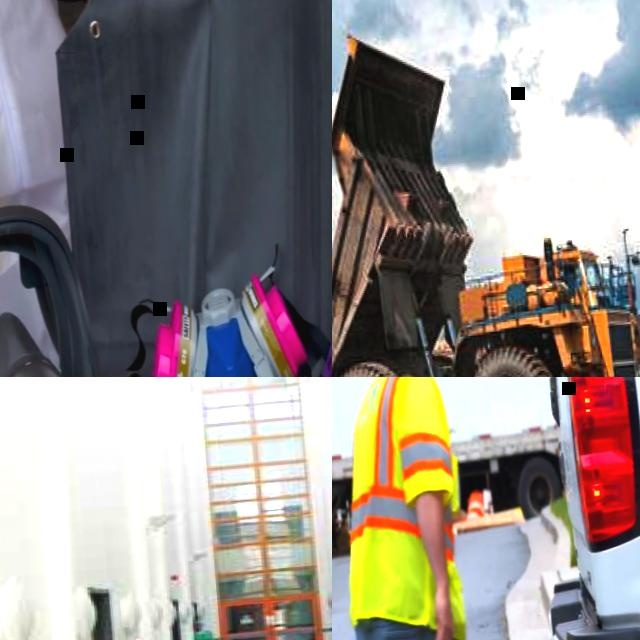Mask: (0, 198, 114, 377), (137, 266, 317, 377)
Person: (332, 377, 487, 640)
Safety Cone: (465, 490, 484, 518)
Safety Vest: (332, 377, 473, 640)
machinery: (332, 4, 640, 377)
vehicle: (458, 377, 640, 640)
